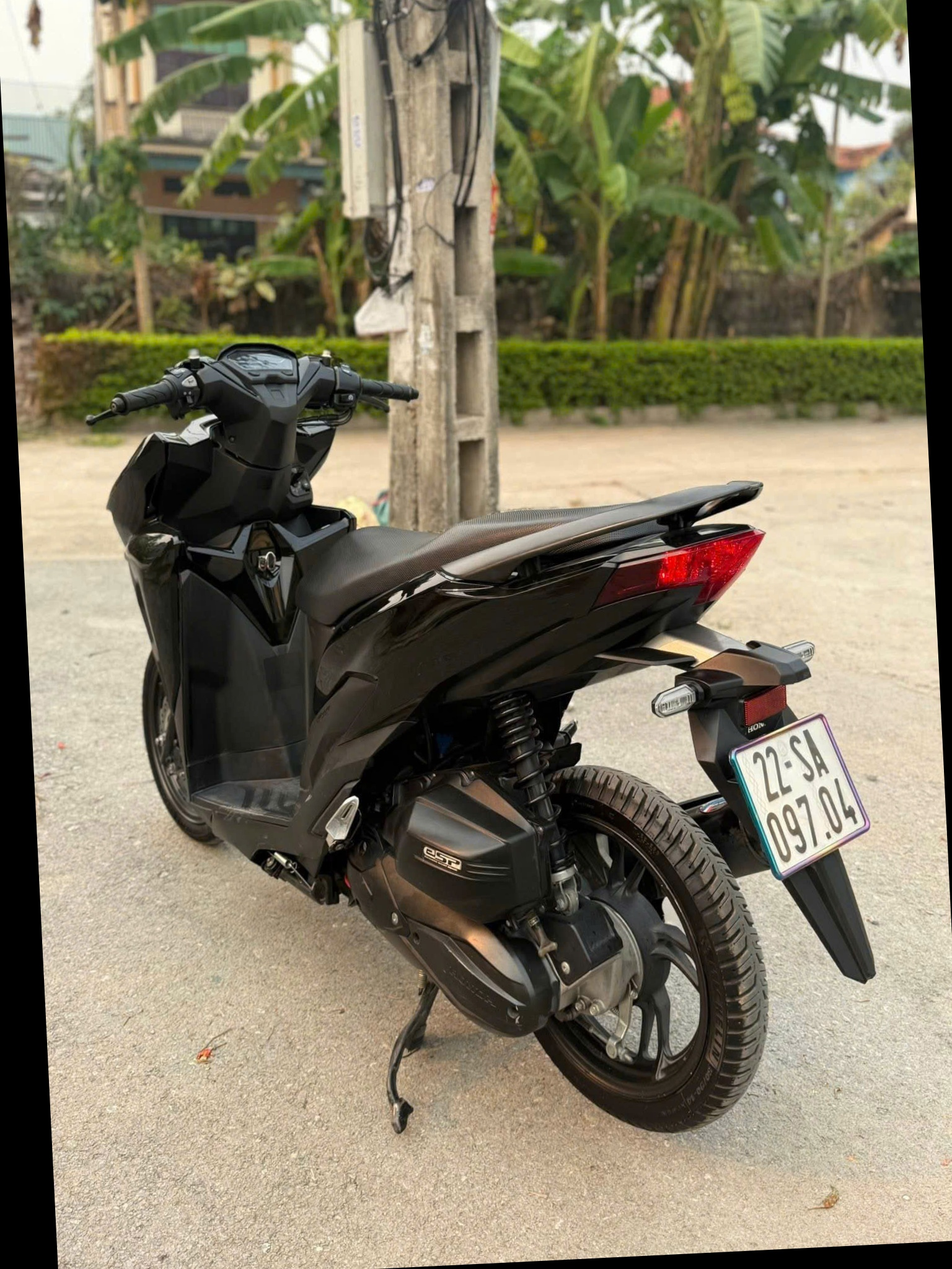Bien-so: (724, 706, 882, 887)
